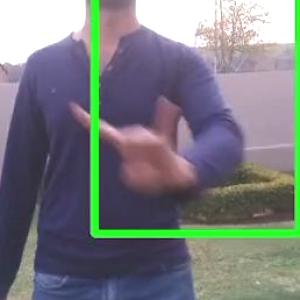takeoff-hand: (67, 88, 186, 198)
